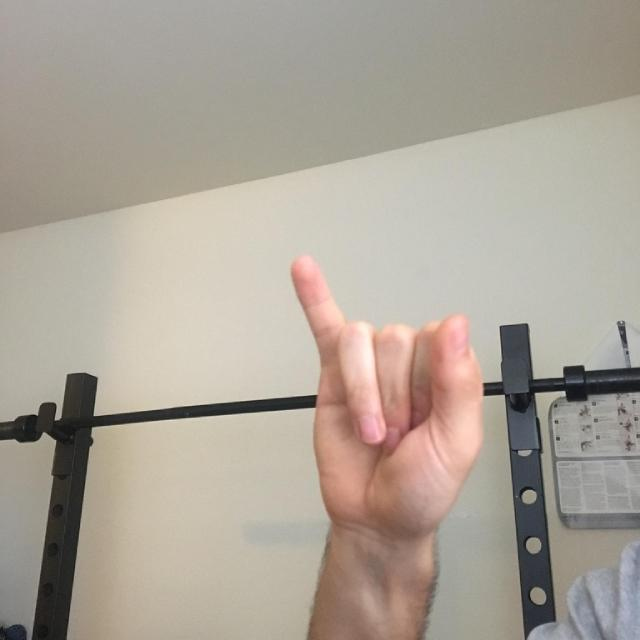I: (231, 204, 544, 575)
